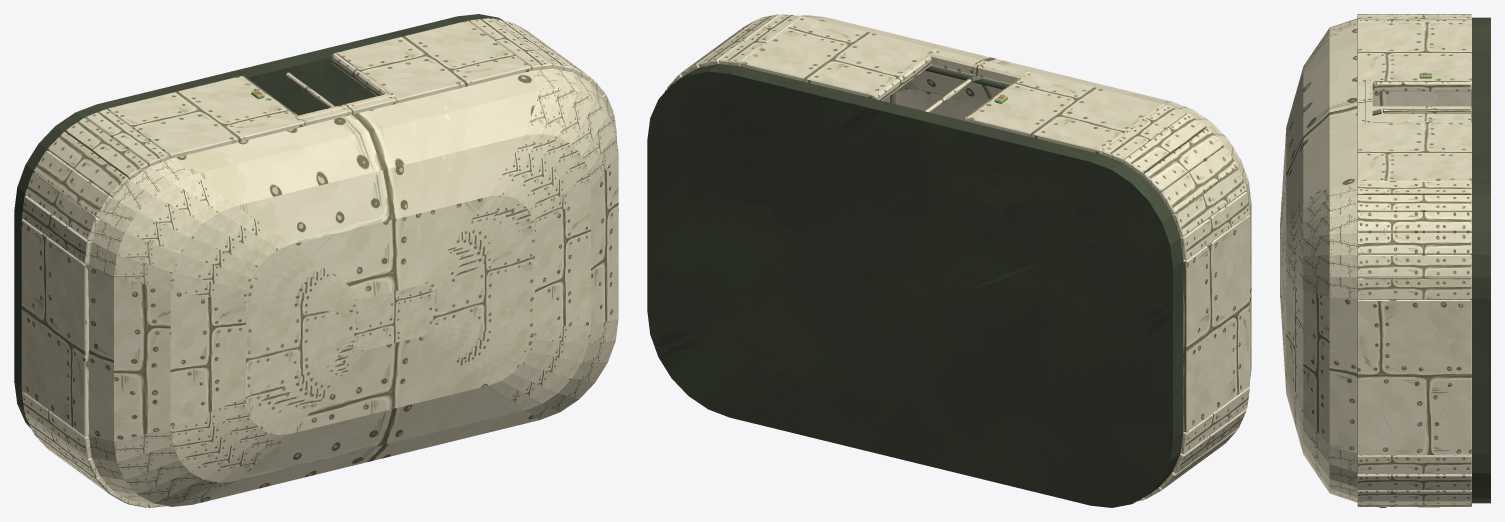
Rendered from ECHO7_20_Huerto_Reserva.obj.
3 views of the same model, side by side, from view 1: azimuth 30°, elevation 25°; view 2: azimuth 150°, elevation 25°; view 3: azimuth 270°, elevation 25° (orthographic). The views are drawn at different scales.
Parts seen in each view (by area): view 1: ECHO7_20_Huerto_Reserva__Techo_curvo_49, ECHO7_20_Huerto_Reserva__Techo_curvo_77, ECHO7_20_Huerto_Reserva__Pared_presion_27, ECHO7_20_Huerto_Reserva__Suelo_modulo_01, ECHO7_20_Huerto_Reserva__Techo_curvo_105, ECHO7_20_Huerto_Reserva__Pared_frente_02, ECHO7_20_Huerto_Reserva__Techo_curvo_84, ECHO7_20_Huerto_Reserva__Pared_frente_01, ECHO7_20_Huerto_Reserva__Techo_curvo_56, ECHO7_20_Huerto_Reserva__Techo_curvo_63, ECHO7_20_Huerto_Reserva__Techo_curvo_91, ECHO7_20_Huerto_Reserva__Techo_curvo_21 (+81 smaller); view 2: ECHO7_20_Huerto_Reserva__Suelo_modulo_01, ECHO7_20_Huerto_Reserva__Pared_presion_27, ECHO7_20_Huerto_Reserva__Pared_frente_02, ECHO7_20_Huerto_Reserva__Pared_frente_01, ECHO7_20_Huerto_Reserva__Pared_presion_24, ECHO7_20_Huerto_Reserva__Pared_presion_23, ECHO7_20_Huerto_Reserva__Pared_presion_25, ECHO7_20_Huerto_Reserva__Pared_presion_22, ECHO7_20_Huerto_Reserva__Techo_curvo_21, ECHO7_20_Huerto_Reserva__Pared_presion_26, ECHO7_20_Huerto_Reserva__Pared_presion_21, ECHO7_20_Huerto_Reserva__Techo_curvo_77 (+7 smaller); view 3: ECHO7_20_Huerto_Reserva__Pared_presion_14, ECHO7_20_Huerto_Reserva__Suelo_modulo_01, ECHO7_20_Huerto_Reserva__Pared_frente_01, ECHO7_20_Huerto_Reserva__Pared_frente_02, ECHO7_20_Huerto_Reserva__Techo_curvo_21, ECHO7_20_Huerto_Reserva__Techo_curvo_14, ECHO7_20_Huerto_Reserva__Techo_curvo_49, ECHO7_20_Huerto_Reserva__Techo_curvo_42, ECHO7_20_Huerto_Reserva__Pared_presion_15, ECHO7_20_Huerto_Reserva__Pared_presion_16, ECHO7_20_Huerto_Reserva__Pared_presion_17, ECHO7_20_Huerto_Reserva__Pared_presion_18 (+40 smaller).
Part boxes in pixels (left/top/right/bottom): ECHO7_20_Huerto_Reserva__Techo_curvo_49: left=193, top=90, right=539, bottom=205; ECHO7_20_Huerto_Reserva__Techo_curvo_77: left=237, top=135, right=525, bottom=244; ECHO7_20_Huerto_Reserva__Pared_presion_27: left=21, top=219, right=88, bottom=436; ECHO7_20_Huerto_Reserva__Suelo_modulo_01: left=14, top=14, right=502, bottom=428; ECHO7_20_Huerto_Reserva__Techo_curvo_105: left=291, top=196, right=489, bottom=298; ECHO7_20_Huerto_Reserva__Pared_frente_02: left=107, top=76, right=304, bottom=158; ECHO7_20_Huerto_Reserva__Techo_curvo_84: left=170, top=290, right=245, bottom=427; ECHO7_20_Huerto_Reserva__Pared_frente_01: left=335, top=20, right=531, bottom=103; ECHO7_20_Huerto_Reserva__Techo_curvo_56: left=114, top=276, right=170, bottom=441; ECHO7_20_Huerto_Reserva__Techo_curvo_63: left=237, top=385, right=524, bottom=480; ECHO7_20_Huerto_Reserva__Techo_curvo_91: left=291, top=337, right=489, bottom=433; ECHO7_20_Huerto_Reserva__Techo_curvo_21: left=171, top=71, right=539, bottom=174; ECHO7_20_Huerto_Reserva__Suelo_modulo_01: left=647, top=64, right=1183, bottom=507; ECHO7_20_Huerto_Reserva__Pared_presion_27: left=1183, top=215, right=1249, bottom=432; ECHO7_20_Huerto_Reserva__Pared_frente_02: left=967, top=72, right=1164, bottom=154; ECHO7_20_Huerto_Reserva__Pared_frente_01: left=740, top=16, right=937, bottom=98; ECHO7_20_Huerto_Reserva__Pared_presion_24: left=1159, top=146, right=1237, bottom=214; ECHO7_20_Huerto_Reserva__Pared_presion_23: left=1143, top=128, right=1223, bottom=193; ECHO7_20_Huerto_Reserva__Pared_presion_25: left=1172, top=168, right=1246, bottom=236; ECHO7_20_Huerto_Reserva__Pared_presion_22: left=1123, top=113, right=1206, bottom=175; ECHO7_20_Huerto_Reserva__Techo_curvo_21: left=814, top=17, right=1172, bottom=105; ECHO7_20_Huerto_Reserva__Pared_presion_26: left=1180, top=191, right=1249, bottom=260; ECHO7_20_Huerto_Reserva__Pared_presion_21: left=1101, top=105, right=1185, bottom=162; ECHO7_20_Huerto_Reserva__Techo_curvo_77: left=910, top=65, right=1009, bottom=104; ECHO7_20_Huerto_Reserva__Pared_presion_14: left=1357, top=299, right=1471, bottom=455; ECHO7_20_Huerto_Reserva__Suelo_modulo_01: left=1472, top=17, right=1490, bottom=503; ECHO7_20_Huerto_Reserva__Pared_frente_01: left=1357, top=122, right=1471, bottom=182; ECHO7_20_Huerto_Reserva__Pared_frente_02: left=1357, top=22, right=1471, bottom=82; ECHO7_20_Huerto_Reserva__Techo_curvo_21: left=1329, top=26, right=1357, bottom=187; ECHO7_20_Huerto_Reserva__Techo_curvo_14: left=1329, top=297, right=1357, bottom=453; ECHO7_20_Huerto_Reserva__Techo_curvo_49: left=1303, top=35, right=1329, bottom=199; ECHO7_20_Huerto_Reserva__Techo_curvo_42: left=1303, top=291, right=1329, bottom=445; ECHO7_20_Huerto_Reserva__Pared_presion_15: left=1357, top=277, right=1471, bottom=299; ECHO7_20_Huerto_Reserva__Pared_presion_16: left=1357, top=255, right=1471, bottom=277; ECHO7_20_Huerto_Reserva__Pared_presion_17: left=1357, top=232, right=1471, bottom=254; ECHO7_20_Huerto_Reserva__Pared_presion_18: left=1357, top=212, right=1471, bottom=232.
Size of the model in its own units: 16.22 by 10.35 by 6.15.
Materials: 7 (7 with a texture image).
